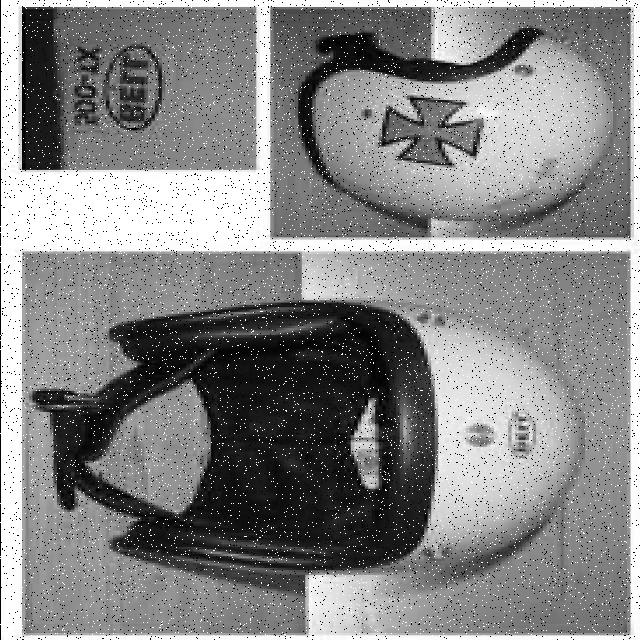Helmet: (57, 28, 621, 584)
